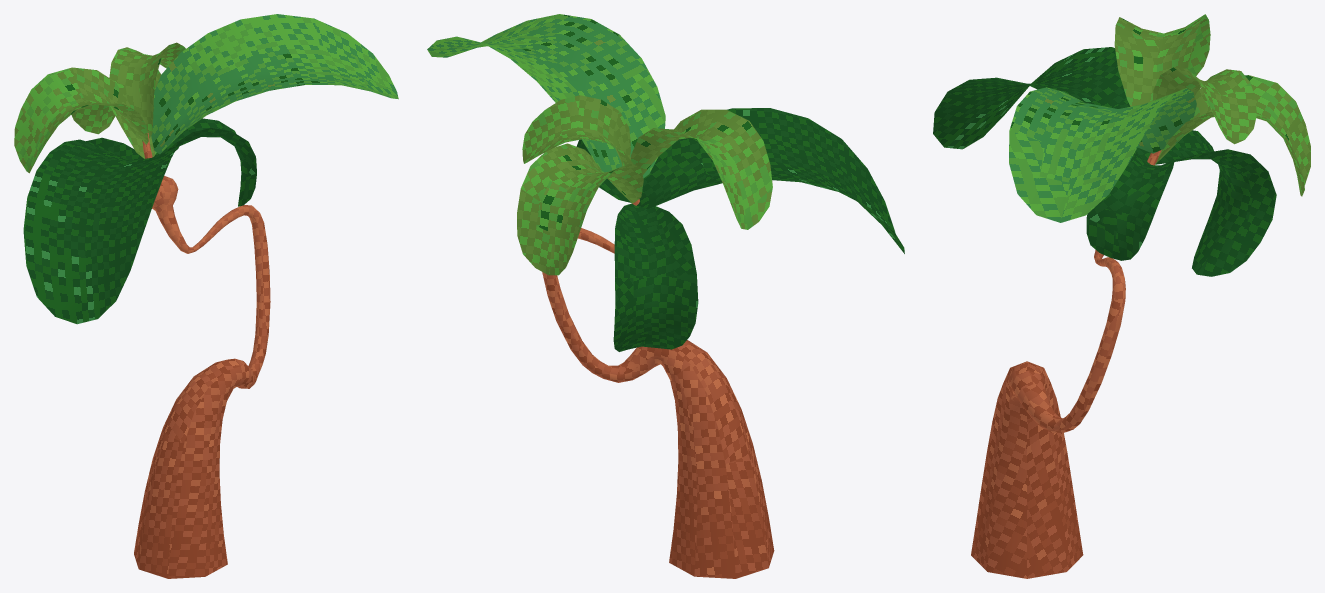
Rendered from pixel-palm-tree-02.glb.
3 views of the same model, side by side, from view 1: azimuth 30°, elevation 25°; view 2: azimuth 150°, elevation 25°; view 3: azimuth 270°, elevation 25° (orthographic). The views are drawn at different scales.
Parts seen in each view (by area): view 1: pixel palm tree 02; view 2: pixel palm tree 02; view 3: pixel palm tree 02.
Boxes of the visible parts, x1,y1,x2,y2 form: pixel palm tree 02: (14, 14, 398, 578); pixel palm tree 02: (427, 14, 904, 578); pixel palm tree 02: (933, 14, 1310, 578).
Bounding box in the file's own units: 3.05 × 3.49 × 2.23.
1 material, 1 textured.
